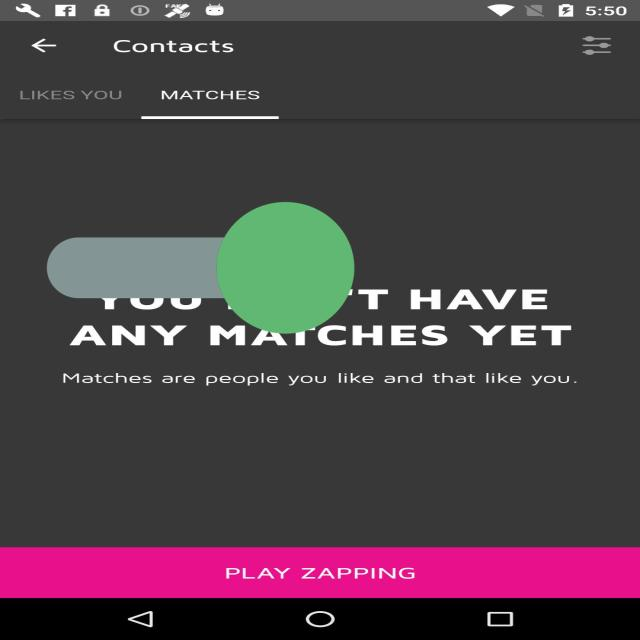social proof: (47, 121, 354, 415)
